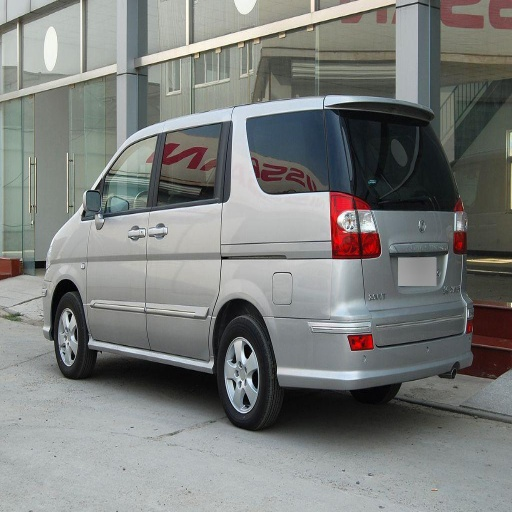trunk: (163, 193, 452, 363)
